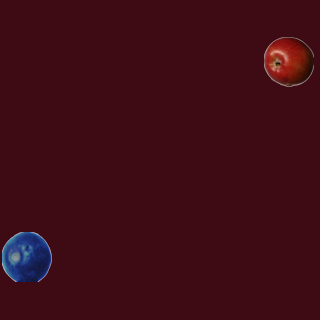Apple Braeburn: (263, 36, 313, 86)
Huckleberry: (1, 231, 51, 281)
